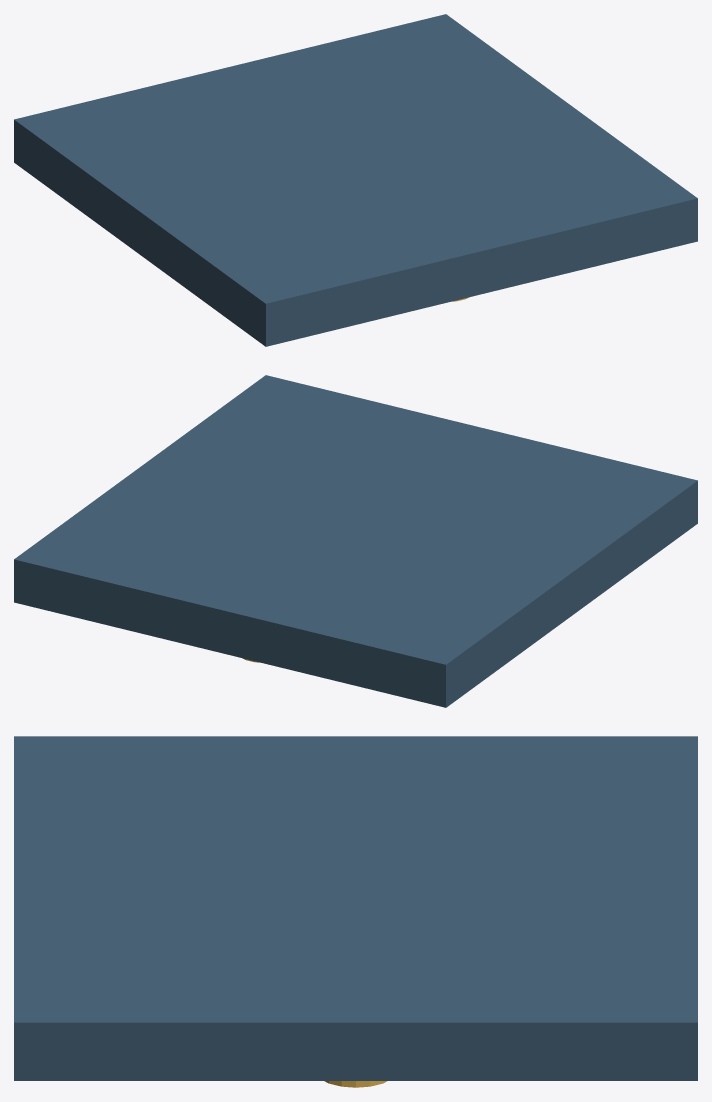
Rendered from 42_L78_MultiZoneUVLampArray.fbx.
3 renders of one model, top to bottom at view 1: azimuth 30°, elevation 25°; view 2: azimuth 150°, elevation 25°; view 3: azimuth 270°, elevation 25°, orthographic. The views are drawn at different scales.
Parts seen in each view (by area): view 1: MultiZoneUVLampArray_Part_0042; view 2: MultiZoneUVLampArray_Part_0042; view 3: MultiZoneUVLampArray_Part_0042.
Part boxes in pixels (bbox=[...]): MultiZoneUVLampArray_Part_0042: bbox=[14, 14, 697, 346]; MultiZoneUVLampArray_Part_0042: bbox=[14, 375, 697, 707]; MultiZoneUVLampArray_Part_0042: bbox=[14, 736, 697, 1080].
Bounding box in the file's own units: 210 × 29.75 × 212.
